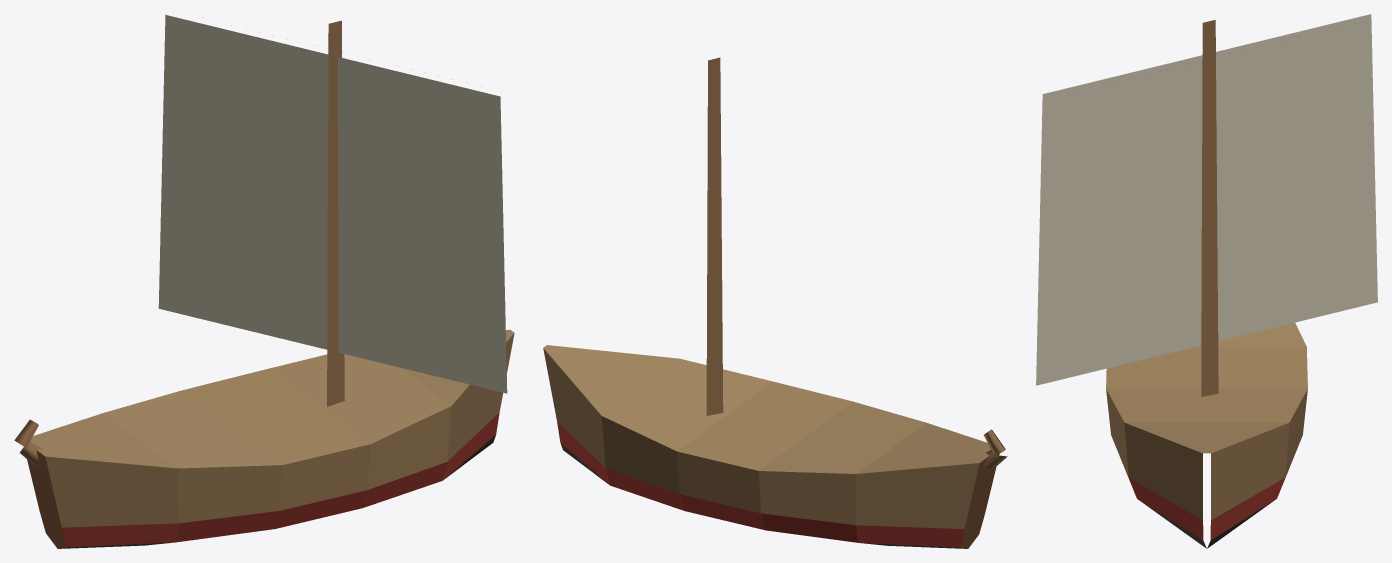
The model's file is hull_usd_fisher_skiff_lod.glb.
3 renders of one model, left to right at view 1: azimuth 30°, elevation 25°; view 2: azimuth 150°, elevation 25°; view 3: azimuth 270°, elevation 25°, orthographic. The views are drawn at different scales.
Parts seen in each view (by area): view 1: lod; view 2: lod; view 3: lod.
Boxes of the visible parts, x1,y1,x2,y2 form: lod: (14, 15, 514, 548); lod: (543, 57, 1007, 548); lod: (1036, 14, 1377, 548).
Size of the model in its own units: 5.18 by 4.83 by 3.15.
